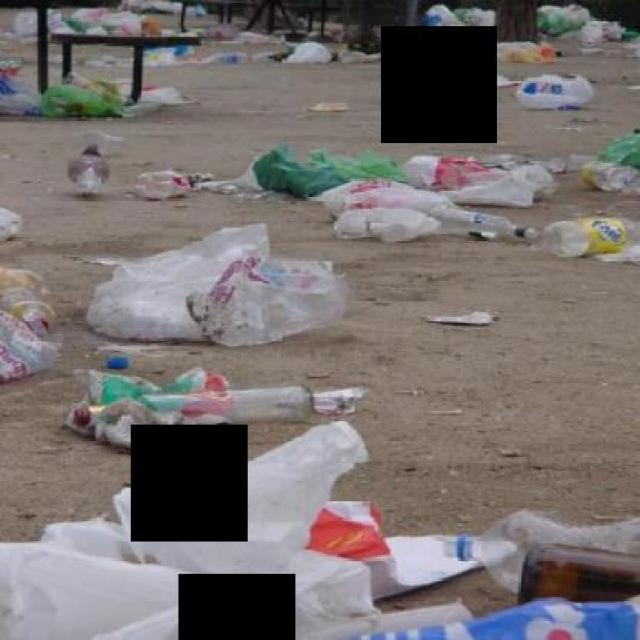plastic bag: (0, 417, 637, 638), (198, 144, 557, 242), (78, 222, 350, 342), (71, 371, 238, 432), (26, 0, 166, 45), (0, 258, 49, 377), (414, 46, 504, 88), (423, 0, 499, 49), (29, 78, 132, 112), (512, 69, 591, 111), (543, 0, 595, 34), (125, 40, 186, 68), (604, 130, 638, 176), (125, 0, 203, 17), (278, 38, 331, 60), (574, 17, 629, 38), (0, 75, 26, 111), (0, 204, 20, 242), (0, 55, 23, 74)
